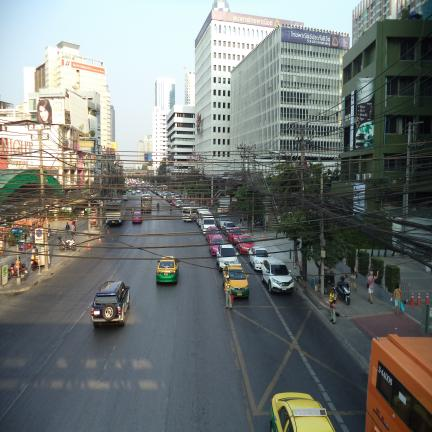bus: (366, 335, 432, 432), (104, 200, 126, 224), (141, 193, 152, 212)
car: (91, 281, 130, 327), (261, 257, 294, 294), (216, 244, 239, 271), (249, 247, 270, 270), (216, 216, 230, 229), (222, 222, 236, 234), (122, 193, 128, 200), (131, 190, 136, 195)
human: (367, 270, 379, 304), (391, 285, 402, 315), (293, 260, 303, 290), (224, 275, 232, 309), (329, 287, 336, 324), (350, 267, 357, 291), (15, 256, 21, 272), (71, 220, 76, 239), (65, 221, 70, 236), (340, 274, 347, 283), (170, 202, 172, 213)
motorbike: (335, 280, 350, 305), (58, 236, 76, 251), (8, 262, 18, 279), (19, 264, 28, 280), (157, 202, 160, 211)
taxi: (270, 392, 335, 432), (222, 264, 249, 297), (156, 256, 179, 283), (237, 234, 255, 254), (209, 235, 224, 255), (226, 228, 244, 244), (205, 226, 220, 241), (132, 211, 142, 223)
van: (200, 214, 216, 234), (197, 208, 212, 226), (182, 206, 199, 221)
